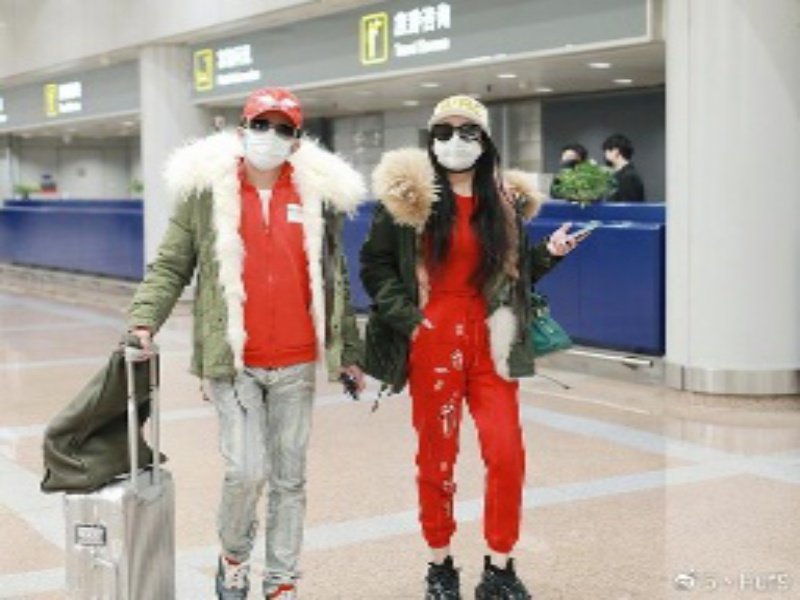ManaoArotava: (410, 83, 513, 188), (229, 77, 306, 184)
